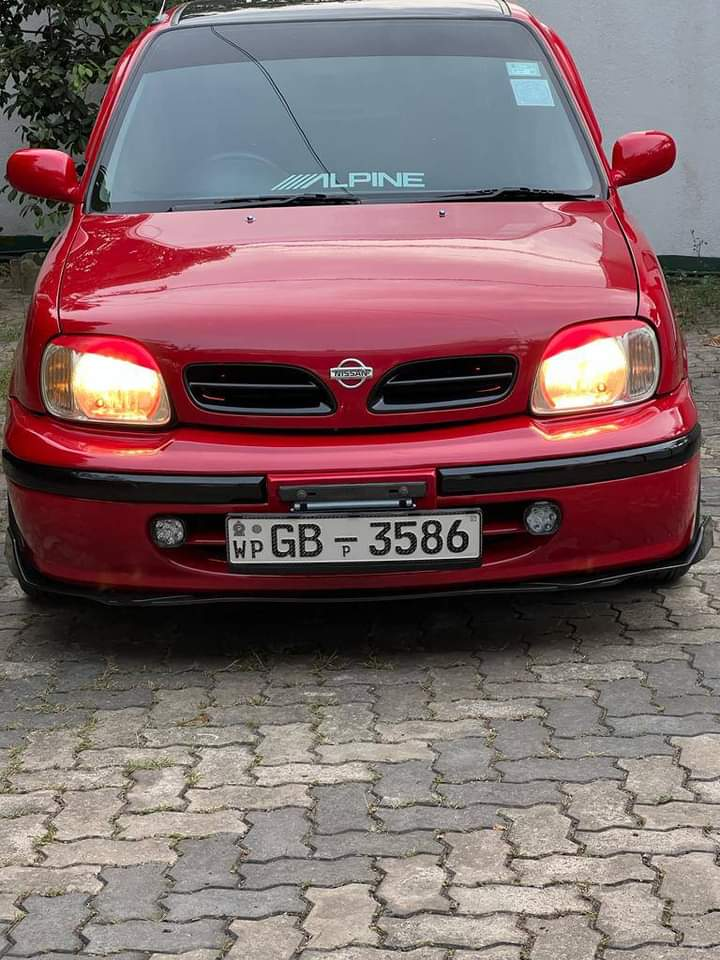number_plate: (222, 517, 482, 563)
